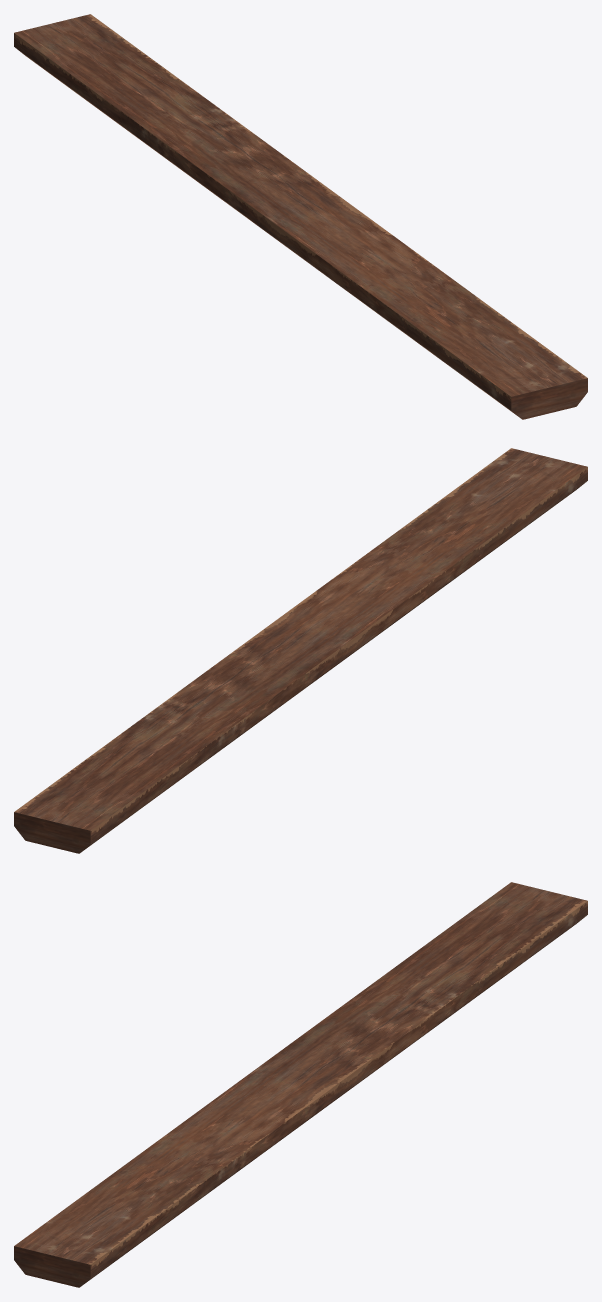
File: Kit_WoodenPlankSmall.fbx
3 views of the same model, one above another, from view 1: azimuth 30°, elevation 25°; view 2: azimuth 150°, elevation 25°; view 3: azimuth 330°, elevation 25° (orthographic).
Parts seen in each view (by area): view 1: Kit_WoodenPlankSmall; view 2: Kit_WoodenPlankSmall; view 3: Kit_WoodenPlankSmall.
Boxes of the visible parts, x1,y1,x2,y2 form: Kit_WoodenPlankSmall: [14, 14, 587, 419]; Kit_WoodenPlankSmall: [14, 448, 587, 853]; Kit_WoodenPlankSmall: [14, 882, 587, 1287].
Size of the model in its own units: 14.01 by 4.52 by 157.
